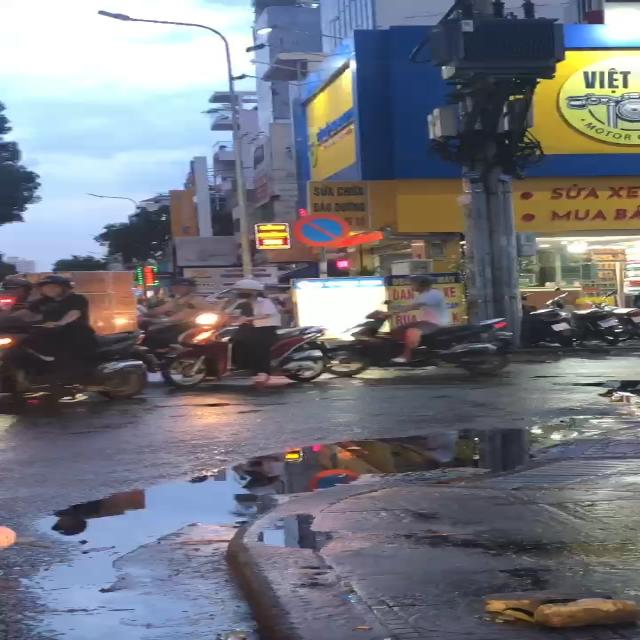Bien bao cam do xe: (291, 209, 358, 247)
